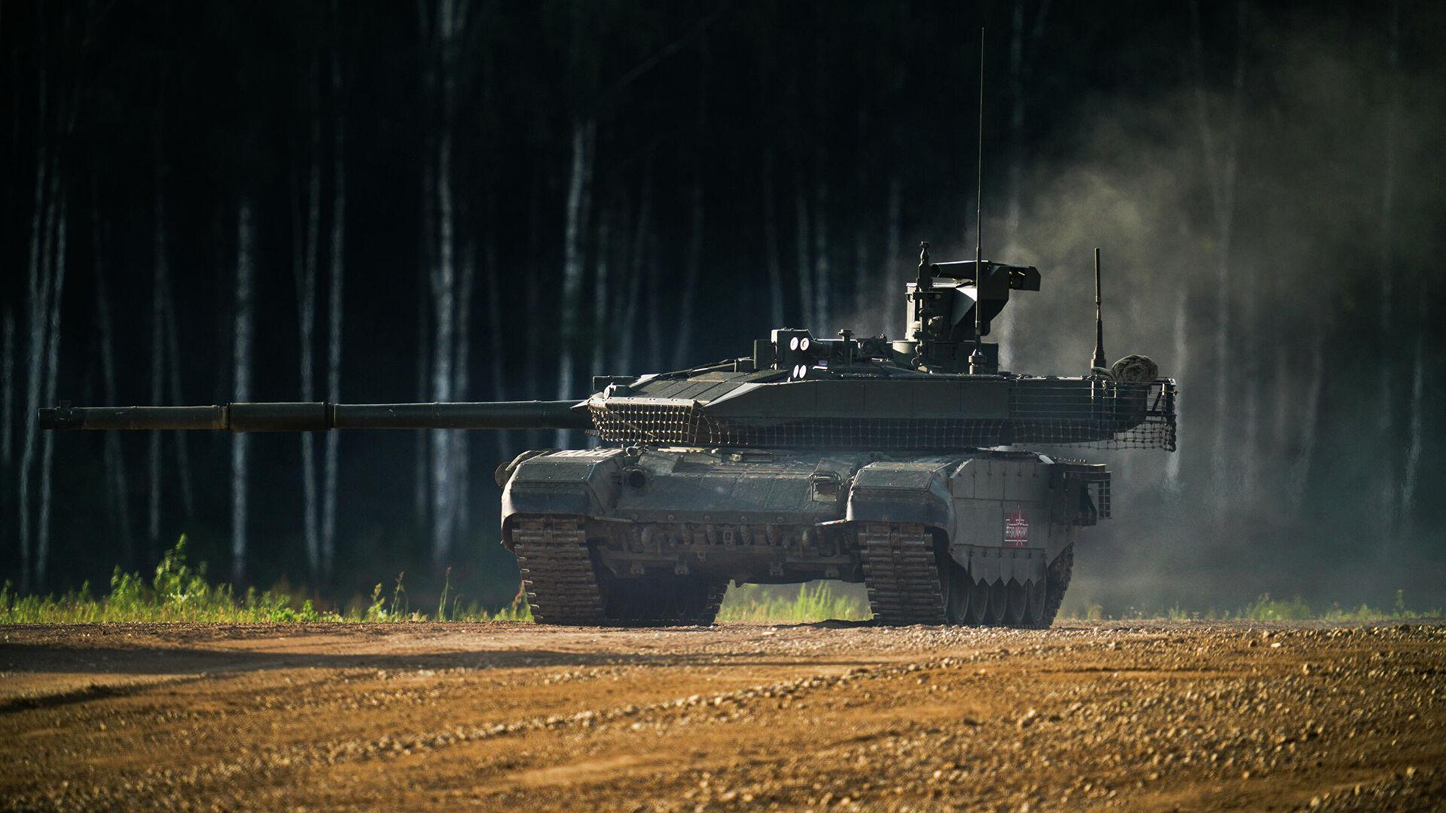tank: (35, 238, 1181, 630)
